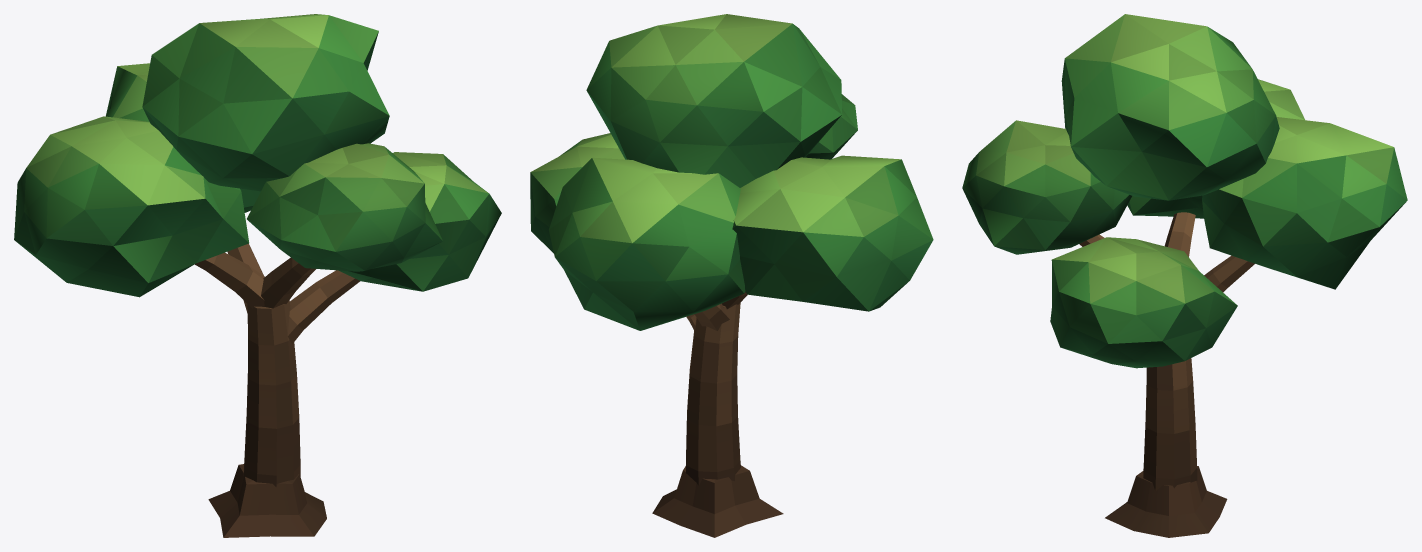
Rendered from TreeA.fbx.
3 renders of one model, left to right at view 1: azimuth 30°, elevation 25°; view 2: azimuth 150°, elevation 25°; view 3: azimuth 270°, elevation 25°, orthographic. The views are drawn at different scales.
Parts seen in each view (by area): view 1: Canopy, Trunk; view 2: Canopy, Trunk; view 3: Canopy, Trunk.
Part boxes in pixels (x1,y1,x2,y2): Canopy: (14,14,501,297); Trunk: (195,243,360,537); Canopy: (530,14,933,330); Trunk: (652,292,783,537); Canopy: (962,14,1407,368); Trunk: (1079,212,1254,537).
Bounding box in the file's own units: 3.18 × 3.56 × 3.04.
